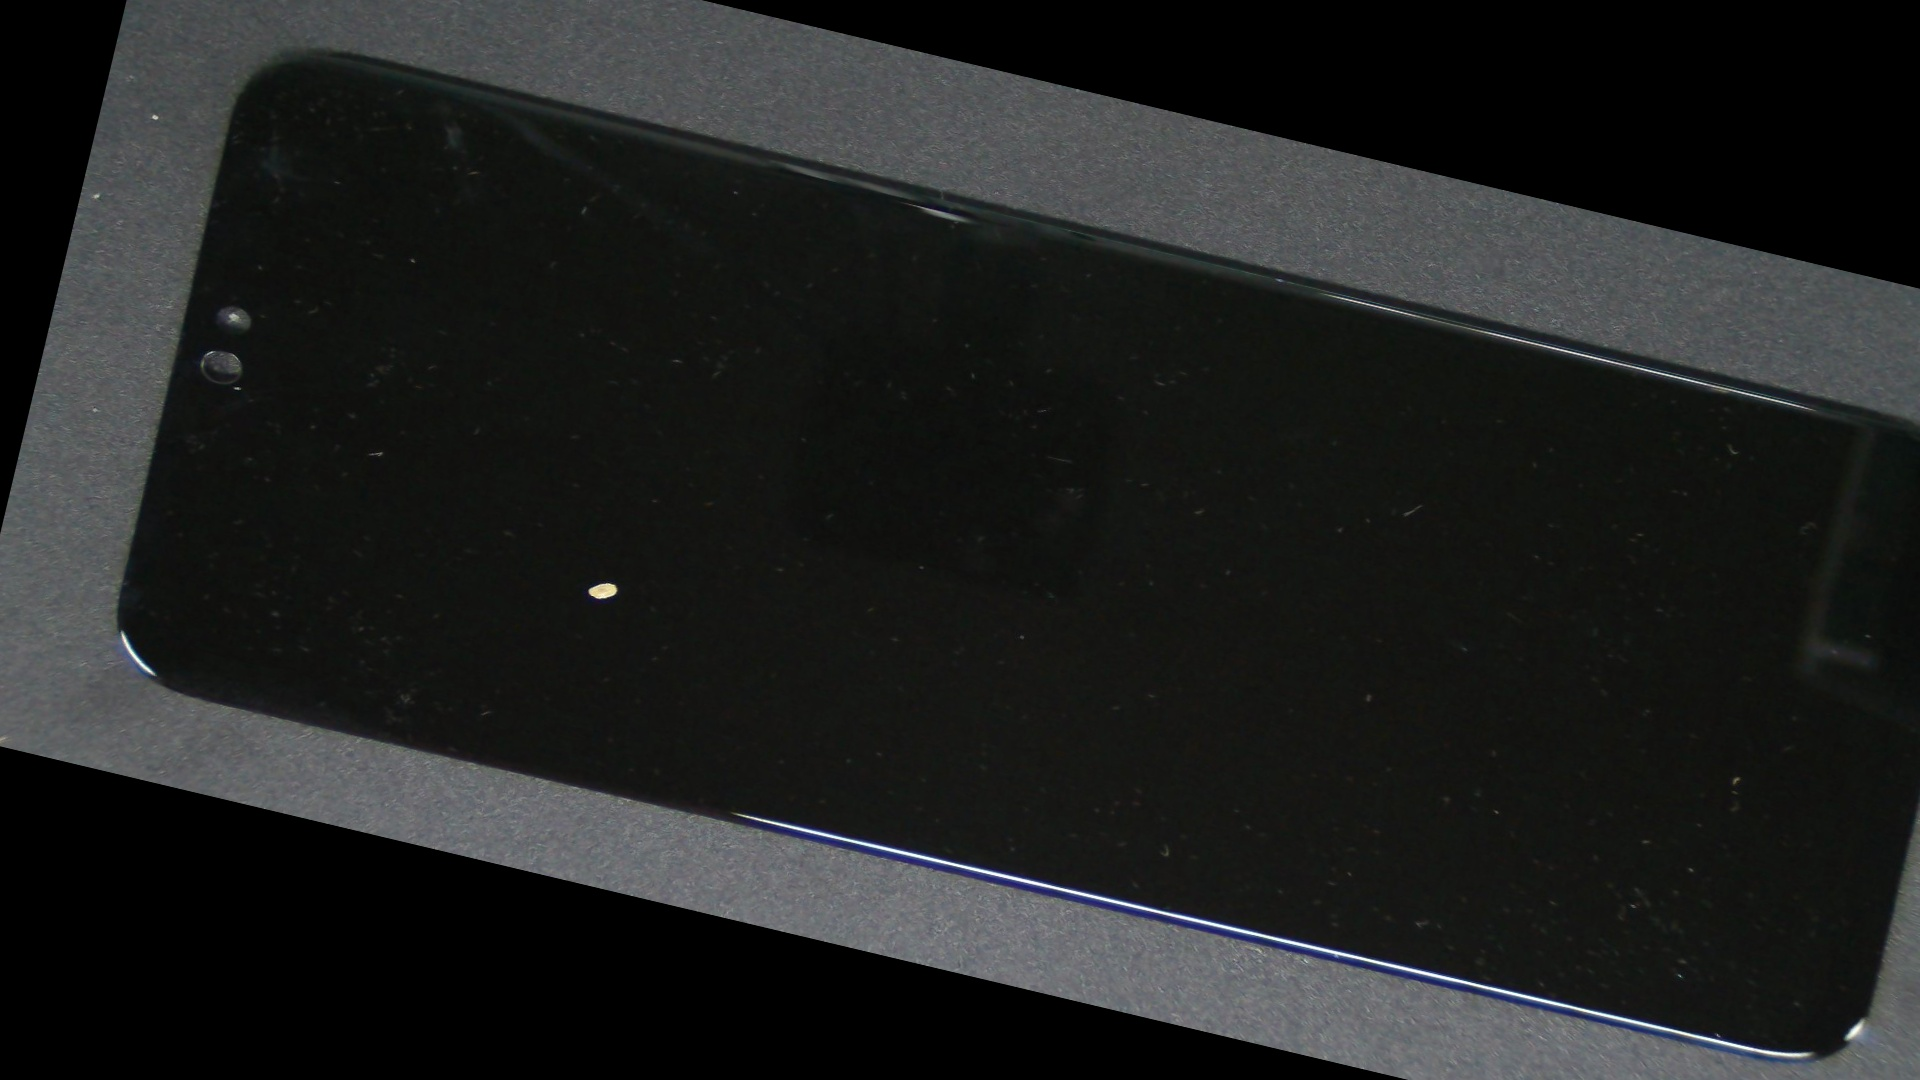oil: (247, 227, 968, 938)
